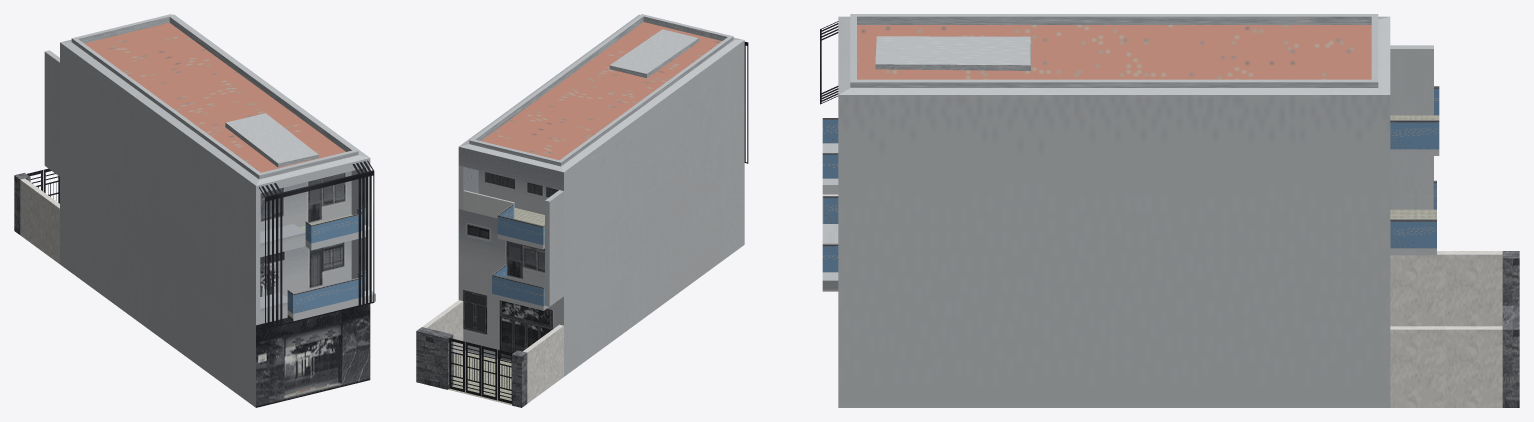
3 renders of one model, left to right at view 1: azimuth 30°, elevation 25°; view 2: azimuth 150°, elevation 25°; view 3: azimuth 270°, elevation 25°, orthographic. The views are drawn at different scales.
Visible parts, largest first — view 1: 5bef830b73eb0522f8df89cf; view 2: 5bef830b73eb0522f8df89cf; view 3: 5bef830b73eb0522f8df89cf.
Boxes of the visible parts, box(x1,y1,x2,y2) form: 5bef830b73eb0522f8df89cf: box(14, 14, 375, 407); 5bef830b73eb0522f8df89cf: box(416, 14, 748, 407); 5bef830b73eb0522f8df89cf: box(820, 14, 1519, 407).
Size of the model in its own units: 6.12 by 11.65 by 24.07.
Materials: 1 (1 with a texture image).
